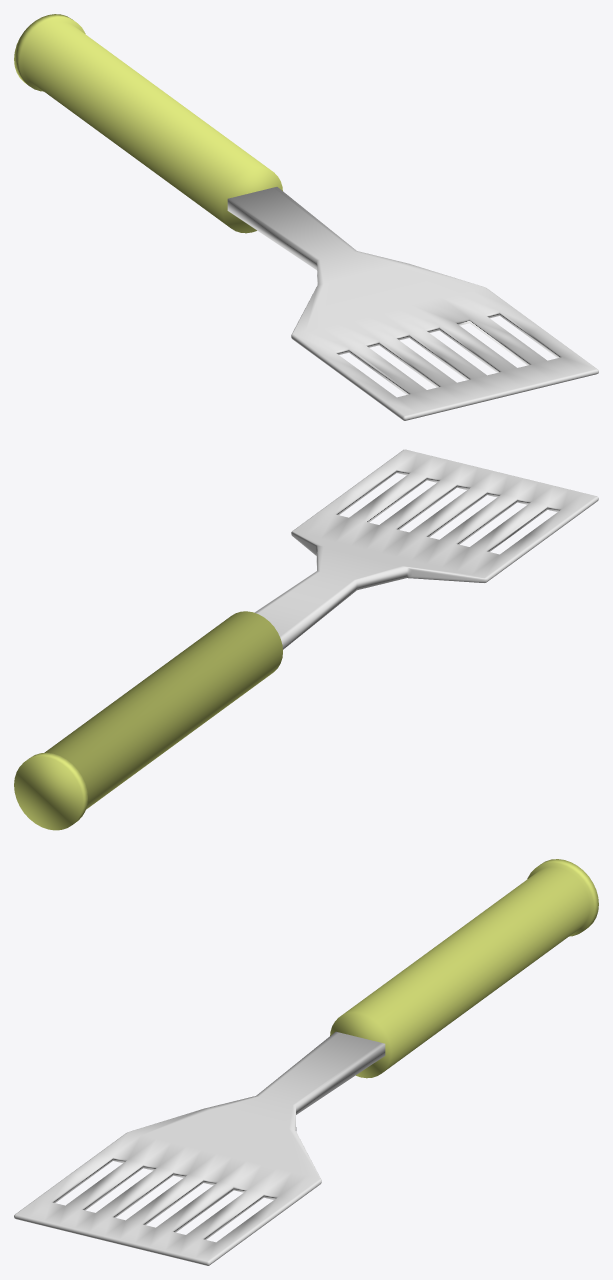
Rendered from spatula_2.fbx.
3 views of the same model, one above another, from view 1: azimuth 30°, elevation 25°; view 2: azimuth 150°, elevation 25°; view 3: azimuth 330°, elevation 25° (orthographic).
Visible parts, largest first — view 1: Spatula; view 2: Spatula; view 3: Spatula.
Part boxes in pixels (<box>): Spatula: <box>14,14,598,420</box>; Spatula: <box>14,449,598,830</box>; Spatula: <box>14,859,598,1265</box>.
Bounding box in the file's own units: 200 × 70.15 × 801.
